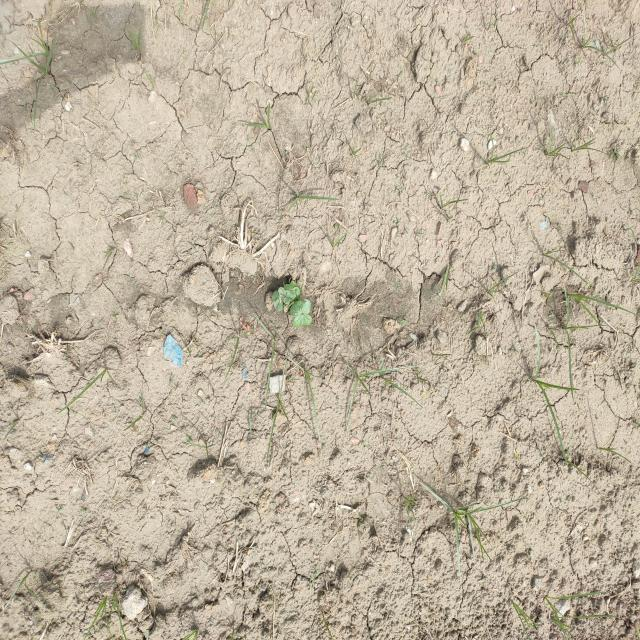seedling_s2: (290, 299, 311, 317), (292, 314, 312, 327), (272, 290, 283, 311), (286, 287, 301, 302), (278, 287, 289, 304), (283, 281, 297, 291)
